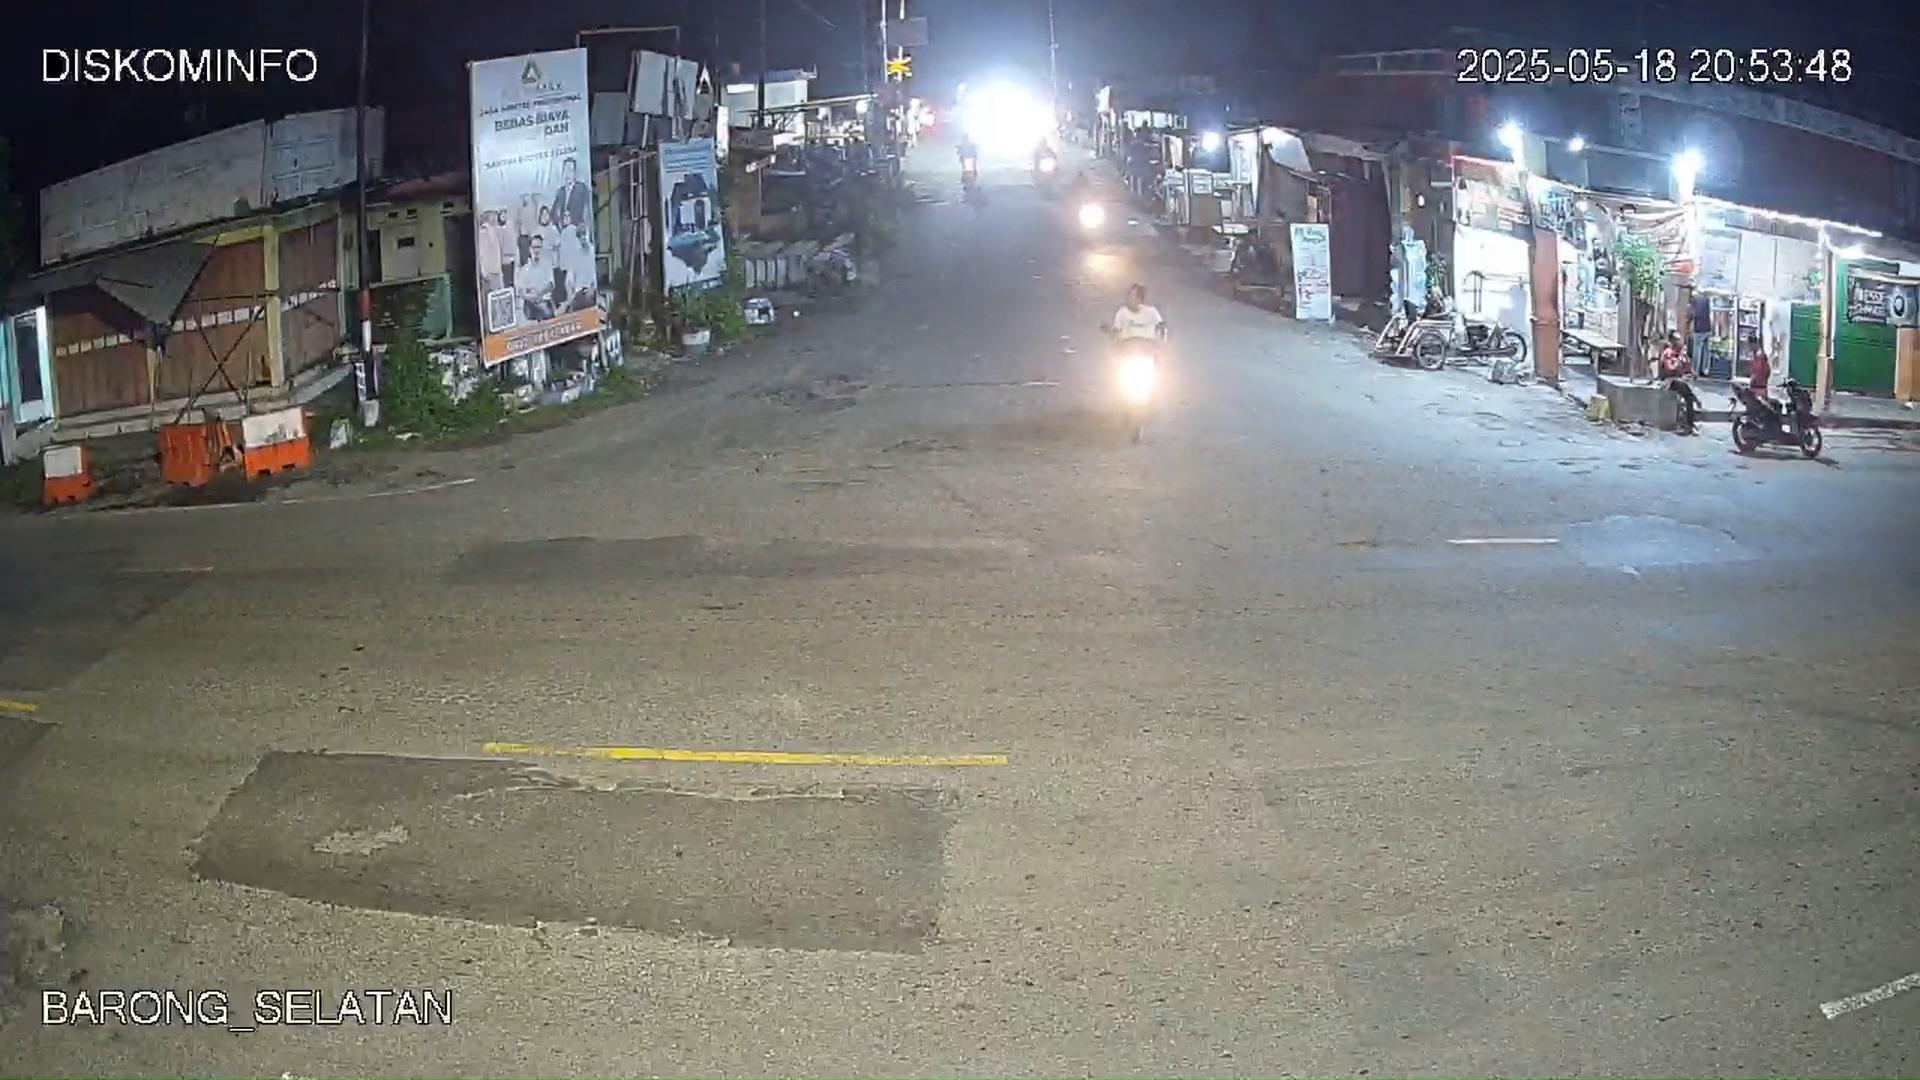Motor: (1097, 298, 1164, 444), (1731, 373, 1826, 459)
